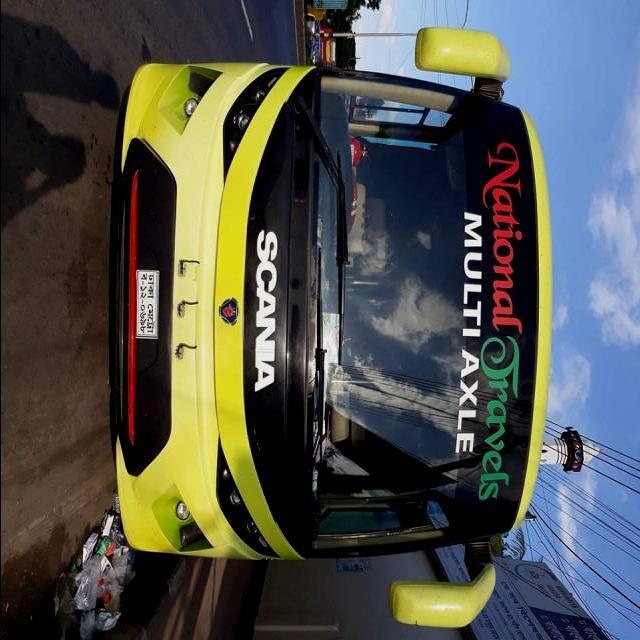bus: (107, 22, 556, 630)
